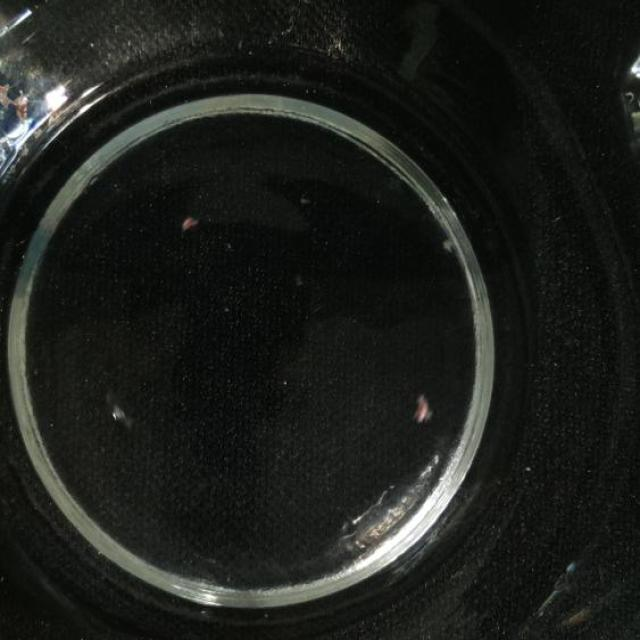fiber: (102, 394, 130, 426), (413, 394, 436, 420), (440, 235, 465, 257), (178, 214, 200, 232)
